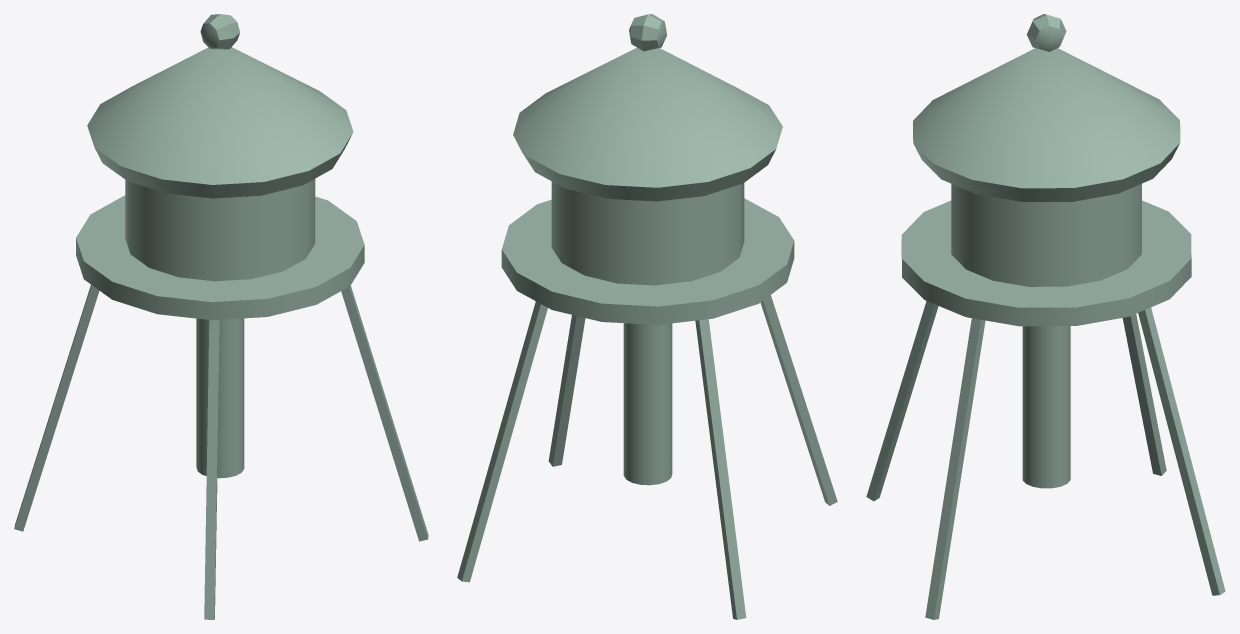
The model's file is roofAsset3.fbx.
The picture shows the model from 3 angles, left to right: view 1: azimuth 30°, elevation 25°; view 2: azimuth 150°, elevation 25°; view 3: azimuth 270°, elevation 25°; orthographic projection. The views are drawn at different scales.
Parts seen in each view (by area): view 1: roofAsset3; view 2: roofAsset3; view 3: roofAsset3.
Part boxes in pixels (<box>): roofAsset3: <box>14,14,428,619</box>; roofAsset3: <box>457,14,837,619</box>; roofAsset3: <box>866,14,1225,619</box>.
Bounding box in the file's own units: 1382 × 2257 × 1382.
